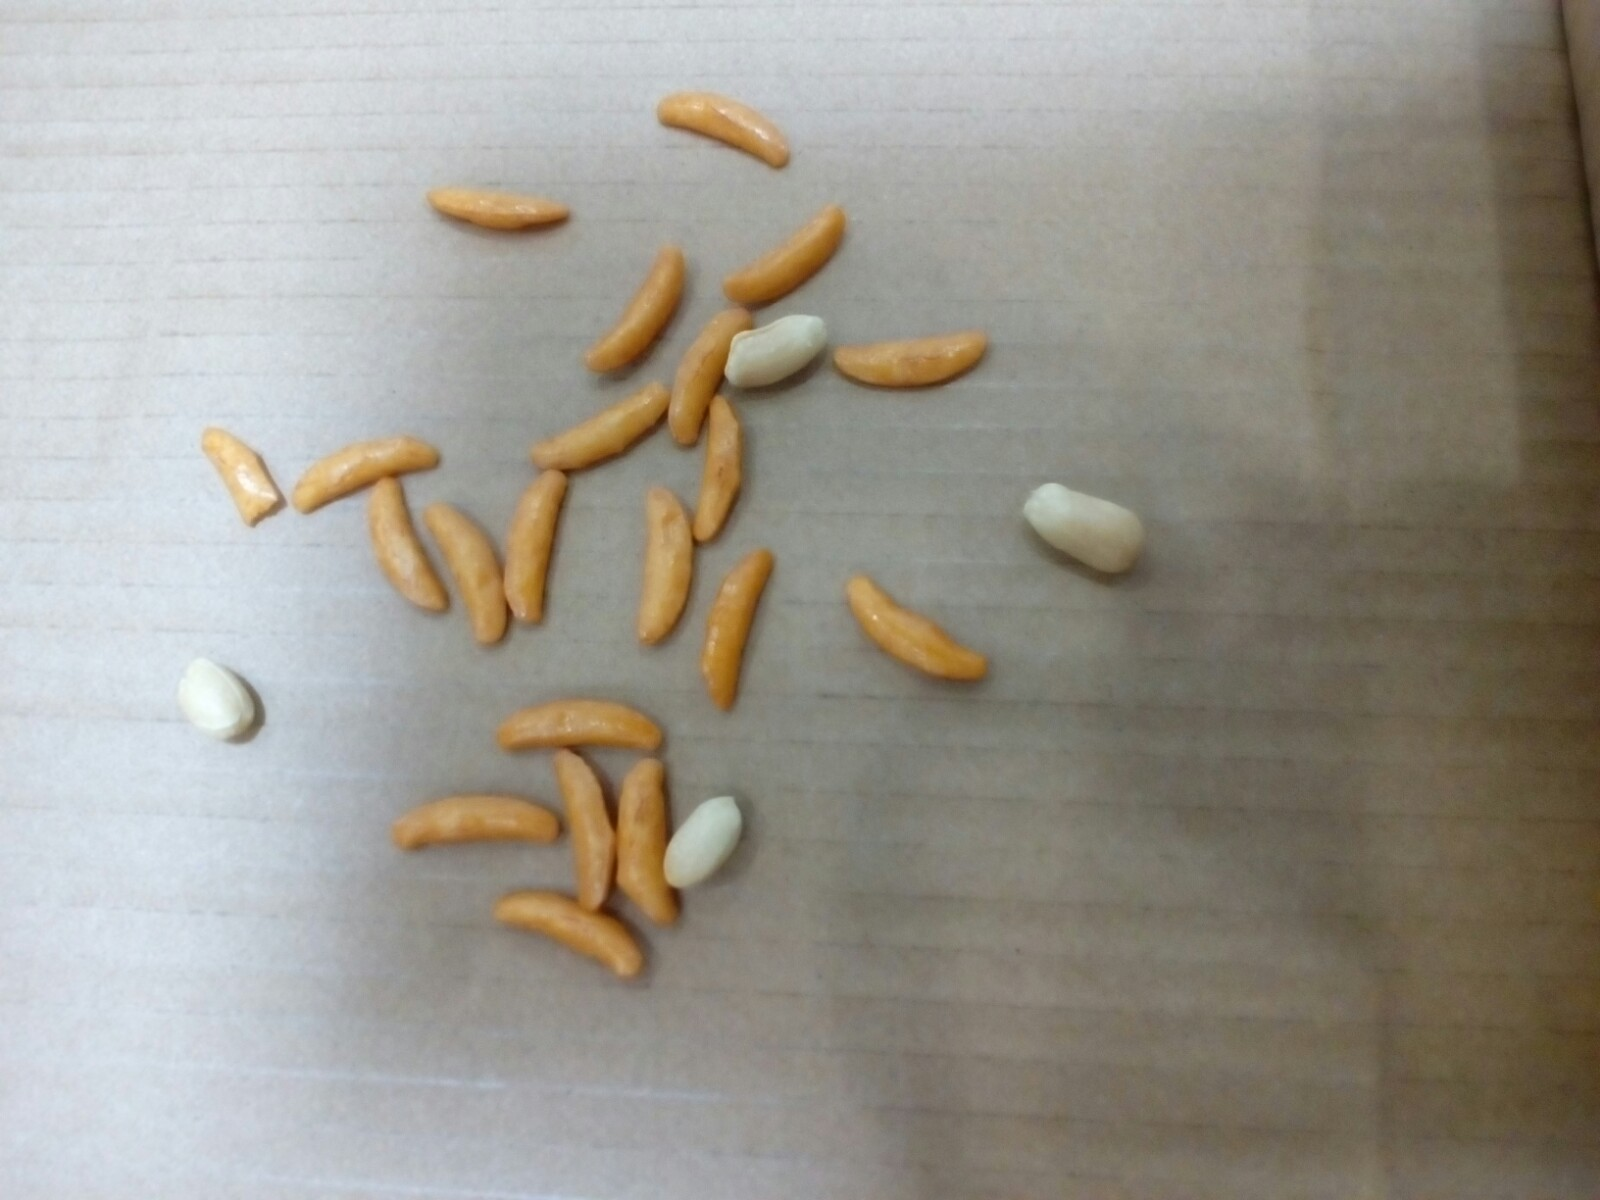peanut: (1013, 473, 1154, 585), (653, 785, 762, 901), (714, 303, 830, 393), (171, 654, 271, 749)
